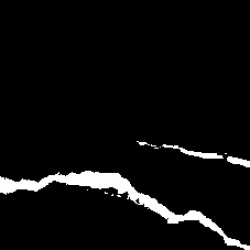crack: (1, 171, 247, 248), (137, 142, 248, 168)
pinhole: (135, 141, 250, 166)
